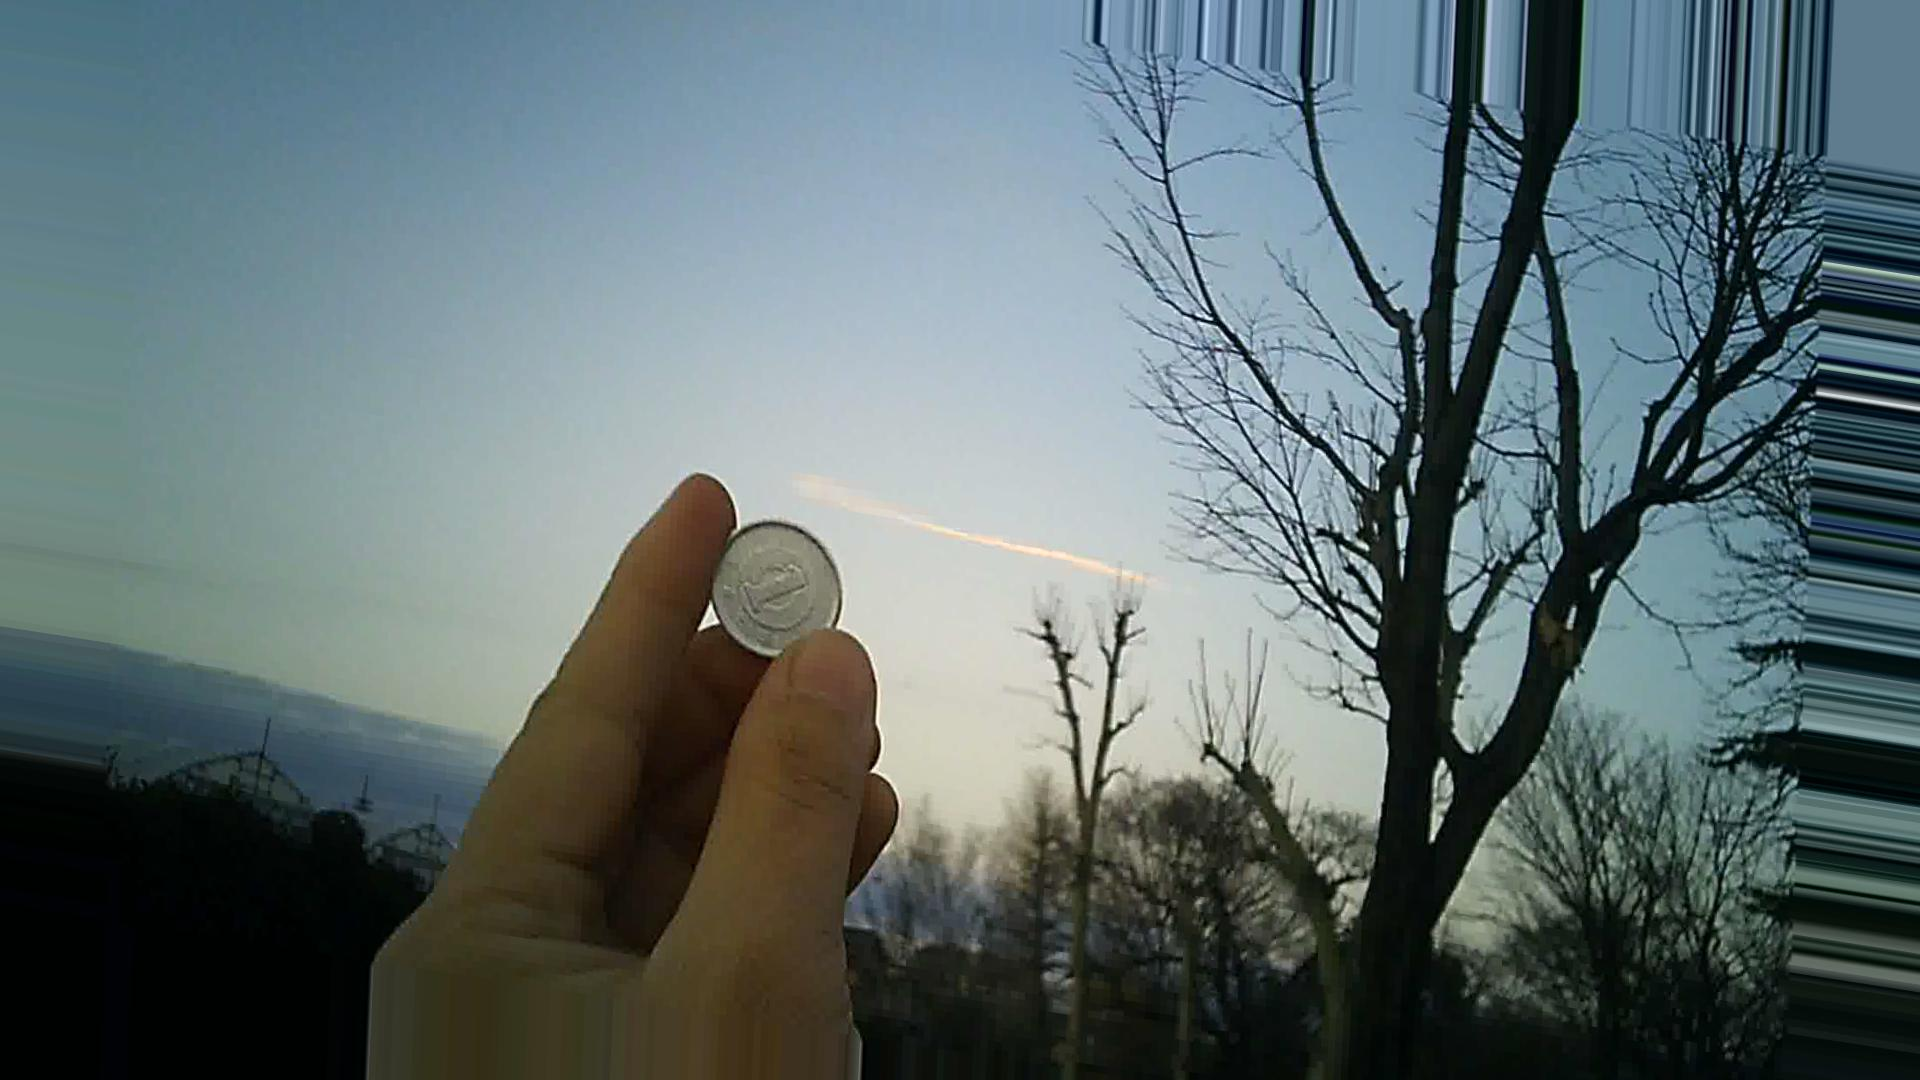1 Yen: (716, 518, 851, 659)
